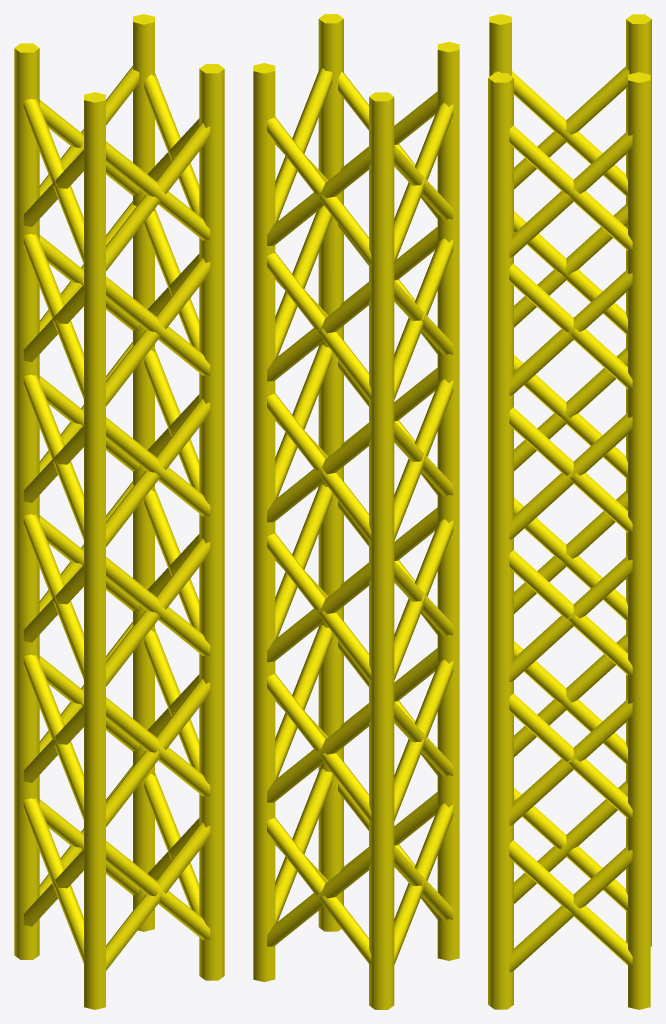
Rendered from Tower.fbx.
3 renders of one model, left to right at view 1: azimuth 30°, elevation 25°; view 2: azimuth 150°, elevation 25°; view 3: azimuth 270°, elevation 25°, orthographic. The views are drawn at different scales.
Visible parts, largest first — view 1: Tower; view 2: Tower; view 3: Tower.
Part boxes in pixels (left/top/right/bottom): Tower: left=14, top=14, right=224, bottom=1009; Tower: left=253, top=14, right=459, bottom=1009; Tower: left=488, top=14, right=651, bottom=1009.
Size of the model in its own units: 944 by 5906 by 946.
